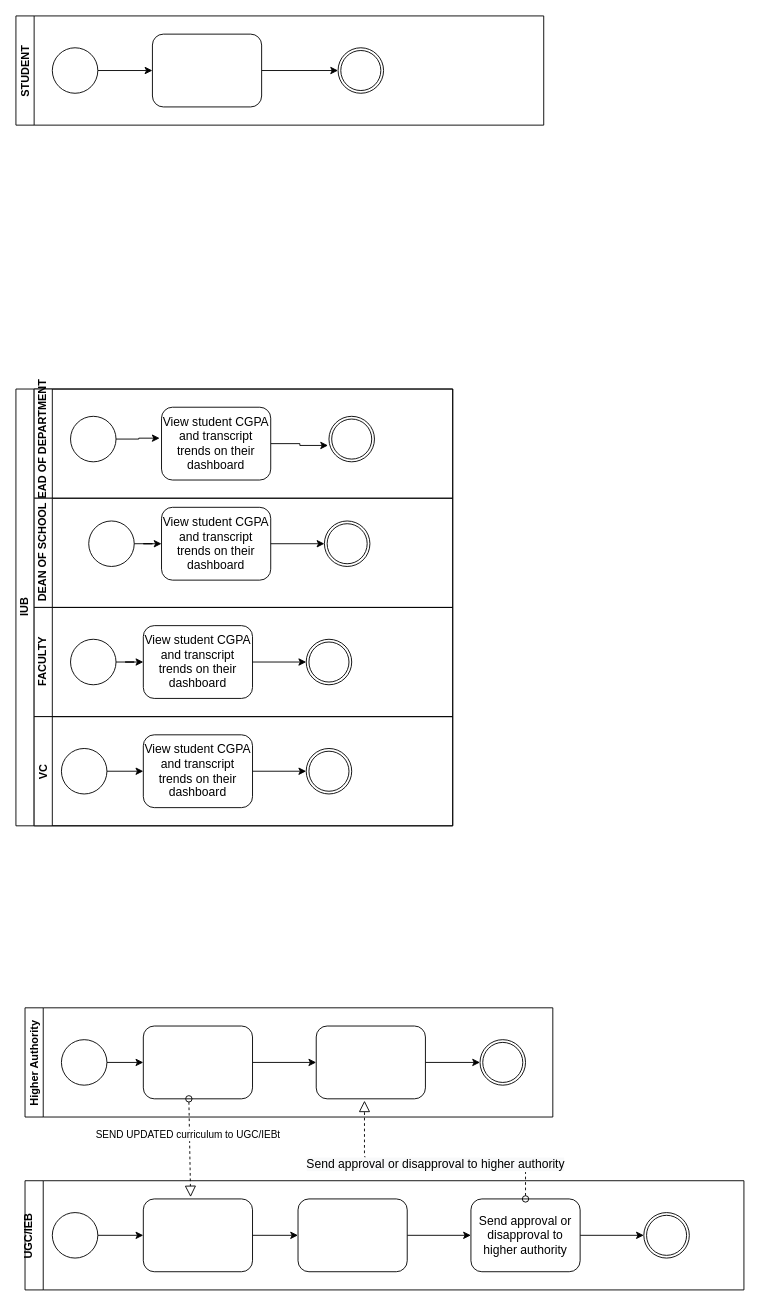
The diagram is 760 pixels wide and 1306 high, and some of its shapes have lost their labels. Each missing label, with the centre of its shape:
Analyze the curriculum: [352,1235]
Receive approval or denial of curriculum from UGC/IEB: [370,1062]
received updated curriculum to UGC/IEB: [197,1235]
Retrieve updated curriculum from SPM DB: [197,1062]
View their individual student CGPA and transcript: [207,70]
